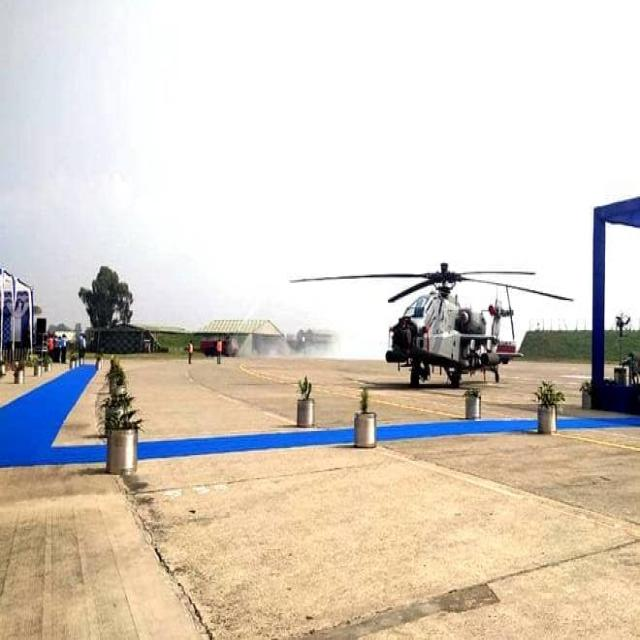helicopter: (233, 229, 512, 402)
